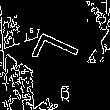L_SE: (29, 33, 88, 82)
